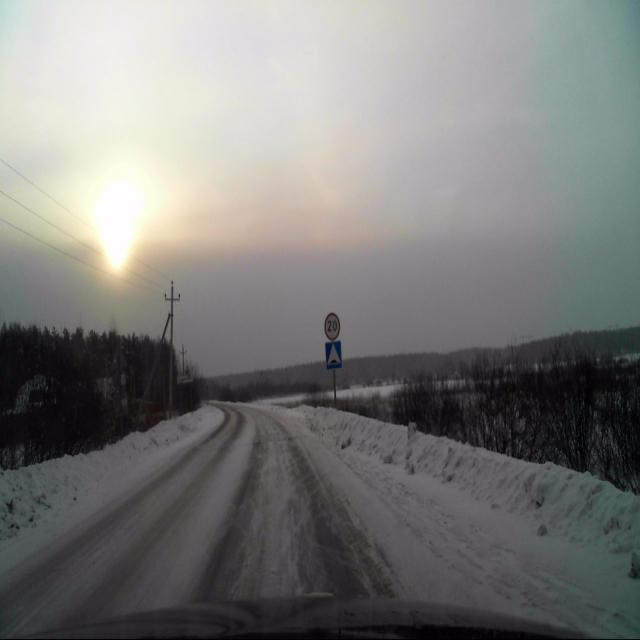road sign: (324, 340, 342, 369)
